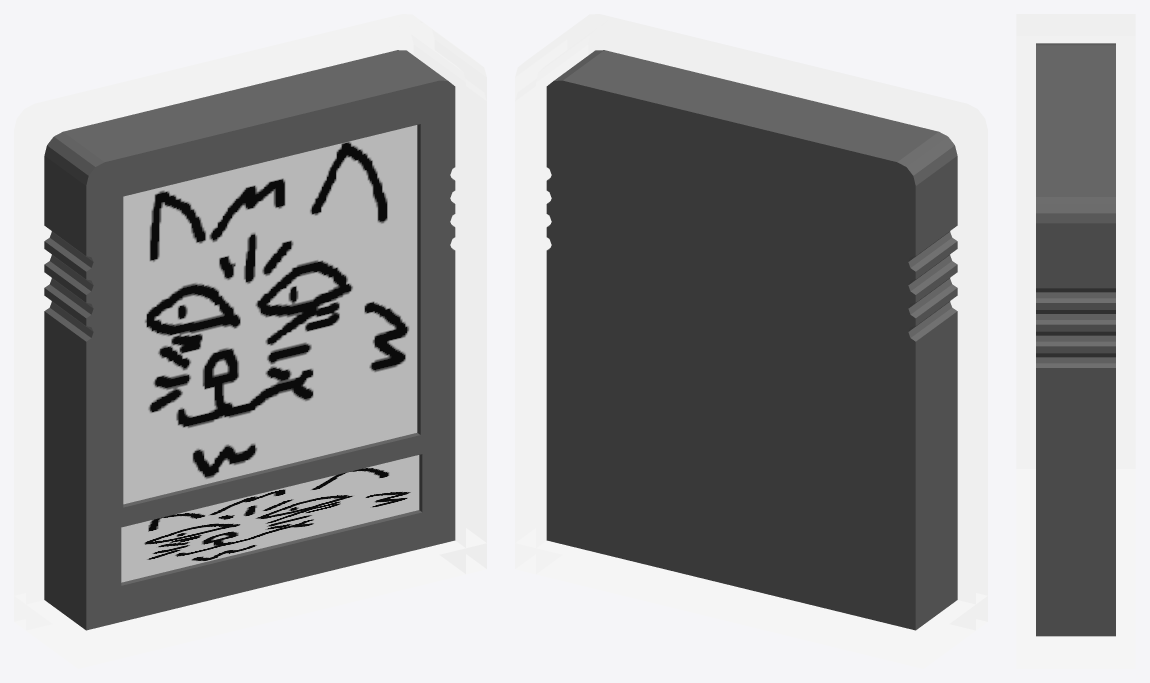
The model's file is cartridge.glb.
The picture shows the model from 3 angles, left to right: view 1: azimuth 30°, elevation 25°; view 2: azimuth 150°, elevation 25°; view 3: azimuth 270°, elevation 25°; orthographic projection. The views are drawn at different scales.
Parts seen in each view (by area): view 1: Cube, Cube.001; view 2: Cube, Cube.001; view 3: Cube, Cube.001.
Boxes of the visible parts, <box> form: Cube: <box>44,50,455,630</box>; Cube.001: <box>14,14,486,668</box>; Cube: <box>546,50,957,630</box>; Cube.001: <box>515,14,987,668</box>; Cube: <box>1036,43,1115,636</box>; Cube.001: <box>1016,14,1135,668</box>.
Size of the model in its own units: 2.2 by 2.64 by 0.6.
4 materials, 2 textured.
